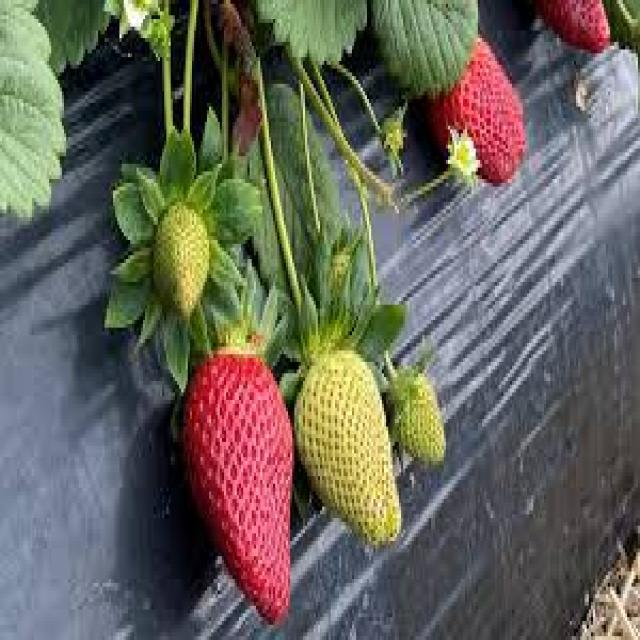strawberry: (180, 309, 300, 637), (420, 44, 532, 195)
